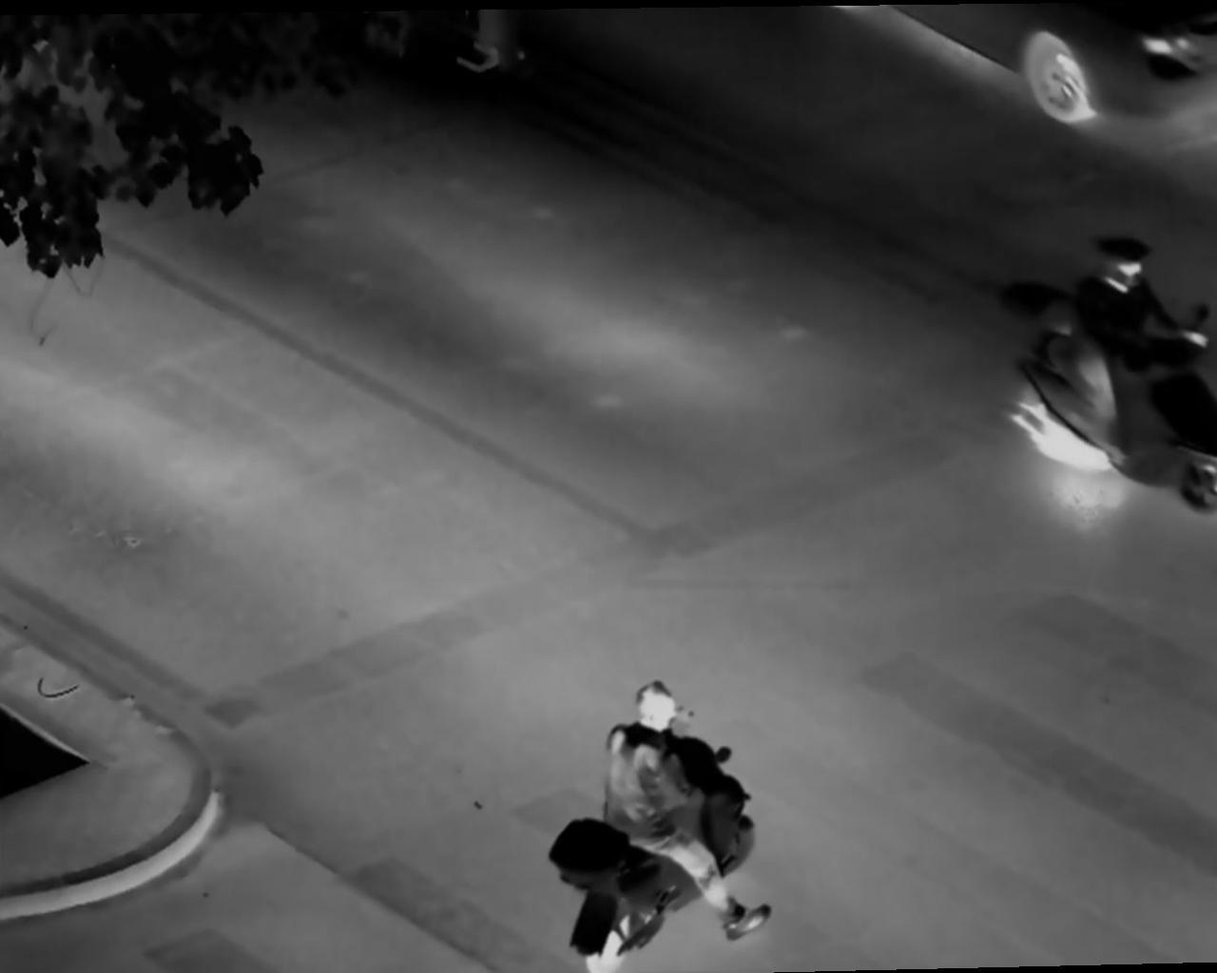person: (596, 676, 779, 942), (1072, 230, 1211, 433)
